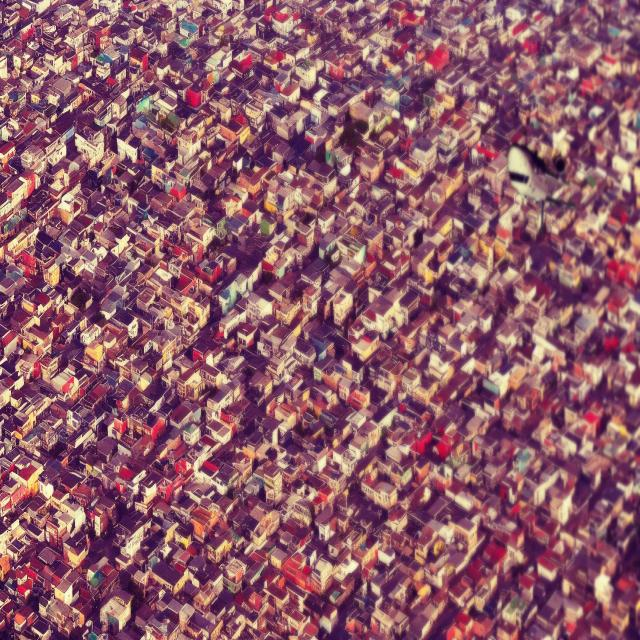airplane: (507, 144, 576, 228)
